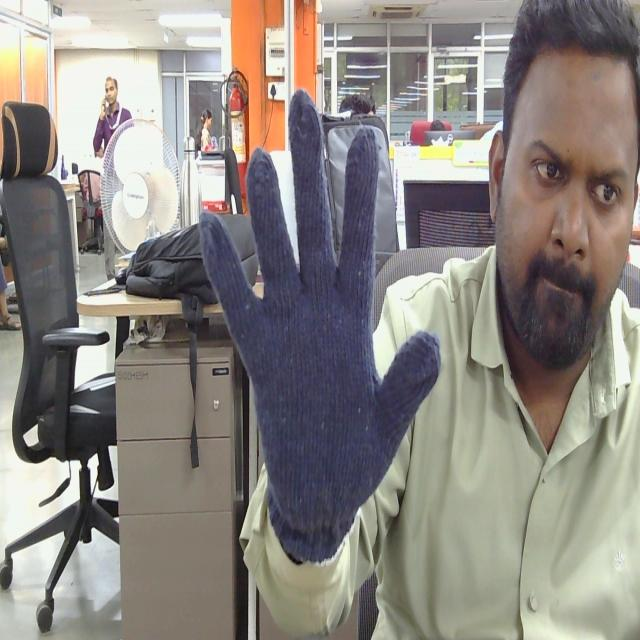Gloves-Detection: (208, 116, 446, 558)
